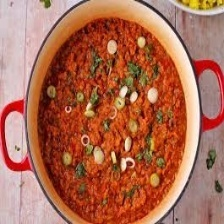sabzi: (32, 12, 193, 224)
